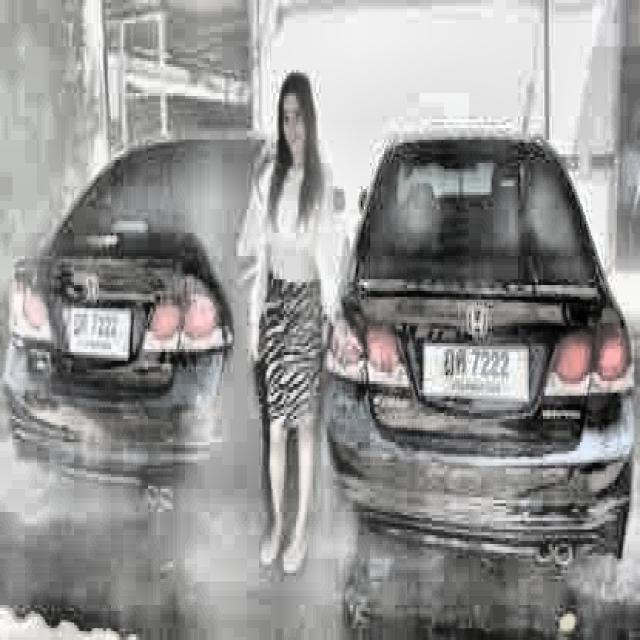license_plate: (424, 339, 529, 403), (65, 305, 130, 362)
